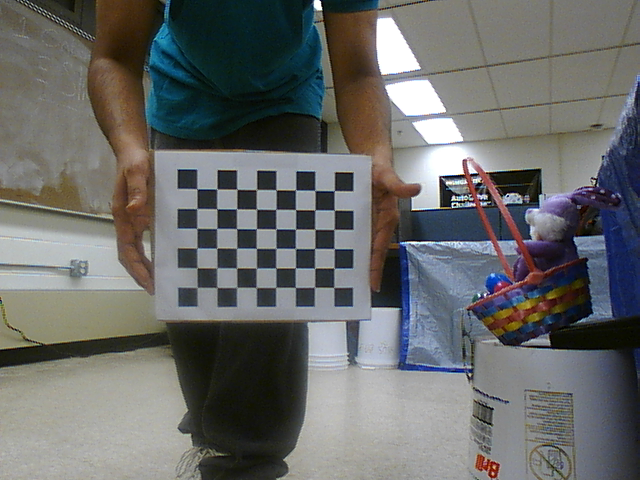bunny: (453, 151, 607, 349)
